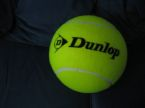tennis ball: (48, 16, 128, 93)
